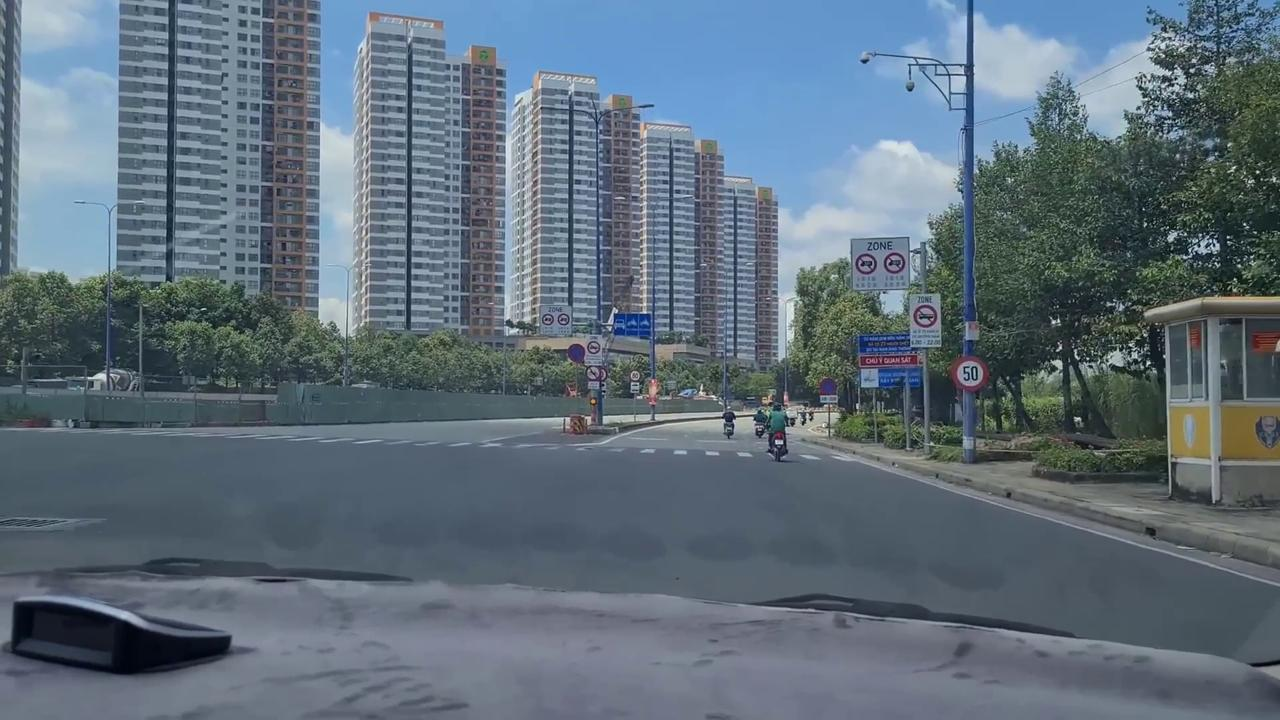Biển phụ: (631, 382, 640, 394)
Cấm cac phương tiện hoạt động trong khung giờ cố định: (849, 237, 910, 290), (908, 293, 943, 348), (538, 303, 574, 338), (585, 334, 603, 365)
Cấm dừng - Cấm đỗ: (567, 342, 586, 363), (819, 378, 837, 395)
Cấm xe máy: (585, 365, 601, 381)
Giới hạn tốc độ 50Km/h: (950, 354, 989, 392)
Giới hạn tốc độ 80Km/h: (630, 369, 641, 382)
Khác: (857, 332, 922, 390)
Làn đường cho từng xe: (612, 312, 652, 338)
